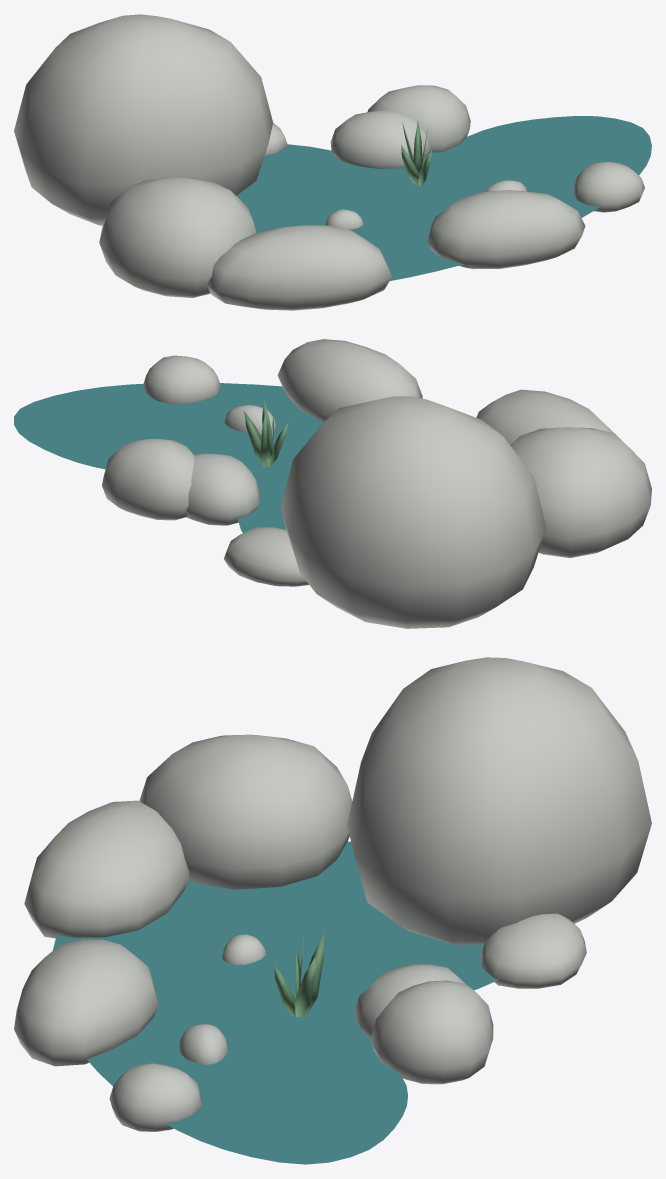
Rendered from rockpool.glb.
The picture shows the model from 3 angles, top to bottom: view 1: azimuth 30°, elevation 25°; view 2: azimuth 150°, elevation 25°; view 3: azimuth 270°, elevation 25°; orthographic projection. The views are drawn at different scales.
Visible parts, largest first — view 1: Pool | sea-worn shore rock, Pool | still kidney-shaped sea water, Pool | sea-worn shore rock.001, Pool | sea-worn shore rock.002, Pool | sea-worn shore rock.003, Pool | sea-worn shore rock.006, Pool | sea-worn shore rock.005, Pool | sea-worn shore rock.004, Pool | pebble in water; view 2: Pool | sea-worn shore rock, Pool | still kidney-shaped sea water, Pool | sea-worn shore rock.001, Pool | sea-worn shore rock.003, Pool | sea-worn shore rock.005, Pool | sea-worn shore rock.006, Pool | sea-worn shore rock.002, Pool | sea-worn shore rock.007, Pool | sea-worn shore rock.004, Pool | pebble in water.001; view 3: Pool | sea-worn shore rock, Pool | still kidney-shaped sea water, Pool | sea-worn shore rock.001, Pool | sea-worn shore rock.002, Pool | sea-worn shore rock.003, Pool | sea-worn shore rock.005, Pool | sea-worn shore rock.007, Pool | sea-worn shore rock.004, Pool | sea-worn shore rock.006, Pool | pebble in water.001, Pool | pebble in water.
Boxes of the visible parts, x1,y1,x2,y2 form: Pool | sea-worn shore rock: [14, 14, 273, 225]; Pool | still kidney-shaped sea water: [236, 116, 651, 280]; Pool | sea-worn shore rock.001: [99, 178, 256, 297]; Pool | sea-worn shore rock.002: [206, 225, 391, 310]; Pool | sea-worn shore rock.003: [427, 190, 585, 269]; Pool | sea-worn shore rock.006: [330, 110, 430, 168]; Pool | sea-worn shore rock.005: [367, 85, 470, 152]; Pool | sea-worn shore rock.004: [573, 161, 644, 212]; Pool | pebble in water: [325, 209, 363, 229]; Pool | sea-worn shore rock: [280, 396, 546, 628]; Pool | still kidney-shaped sea water: [14, 383, 323, 532]; Pool | sea-worn shore rock.001: [510, 427, 651, 557]; Pool | sea-worn shore rock.003: [277, 339, 422, 422]; Pool | sea-worn shore rock.005: [102, 438, 194, 520]; Pool | sea-worn shore rock.006: [186, 453, 259, 525]; Pool | sea-worn shore rock.002: [476, 389, 613, 445]; Pool | sea-worn shore rock.007: [224, 527, 308, 586]; Pool | sea-worn shore rock.004: [143, 355, 220, 404]; Pool | pebble in water.001: [224, 405, 276, 434]; Pool | sea-worn shore rock: [347, 657, 651, 945]; Pool | still kidney-shaped sea water: [52, 841, 499, 1164]; Pool | sea-worn shore rock.001: [139, 734, 352, 889]; Pool | sea-worn shore rock.002: [24, 800, 189, 938]; Pool | sea-worn shore rock.003: [14, 939, 158, 1066]; Pool | sea-worn shore rock.005: [370, 980, 493, 1084]; Pool | sea-worn shore rock.007: [480, 913, 586, 988]; Pool | sea-worn shore rock.004: [109, 1063, 201, 1131]; Pool | sea-worn shore rock.006: [354, 964, 465, 1037]; Pool | pebble in water.001: [178, 1024, 227, 1064]; Pool | pebble in water: [222, 934, 265, 964].
Bounding box in the file's own units: 0.48 × 0.1396 × 0.36.
